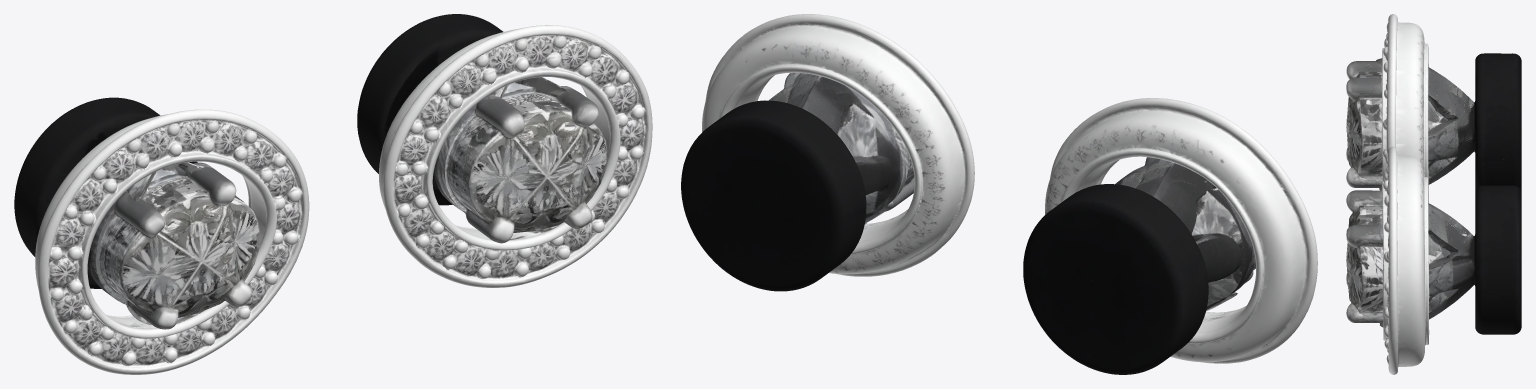
File: oval-halo-drop-earrings-opt.glb
3 views of the same model, side by side, from view 1: azimuth 30°, elevation 25°; view 2: azimuth 150°, elevation 25°; view 3: azimuth 270°, elevation 25° (orthographic). The views are drawn at different scales.
Parts seen in each view (by area): view 1: mesh_node; view 2: mesh_node; view 3: mesh_node.
Boxes of the visible parts, bbox=[...] form: mesh_node: bbox=[14, 14, 652, 374]; mesh_node: bbox=[681, 14, 1317, 374]; mesh_node: bbox=[1346, 14, 1521, 374].
Bounding box in the file's own units: 1.9 × 0.7573 × 0.5962.
Materials: 1 (1 with a texture image).
